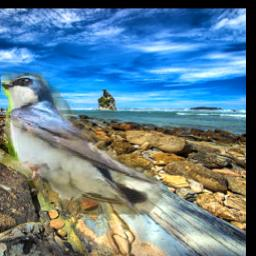Swallow: (0, 73, 162, 220)
